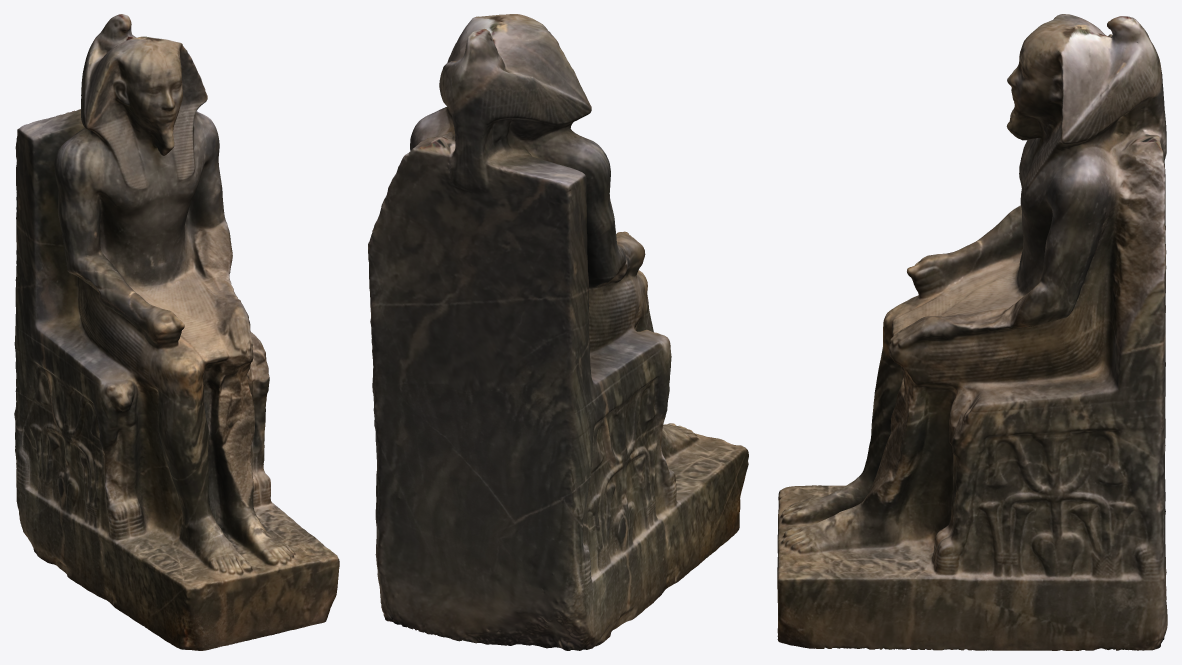
File: statue_of_khafre_egyptian_museum_cairo.glb
3 renders of one model, left to right at view 1: azimuth 30°, elevation 25°; view 2: azimuth 150°, elevation 25°; view 3: azimuth 270°, elevation 25°, orthographic. The views are drawn at different scales.
Parts seen in each view (by area): view 1: Object_6, Object_2, Object_3, Object_5, Object_7, Object_4, Object_10, Object_9, Object_8, Object_11; view 2: Object_8, Object_9, Object_7, Object_10, Object_6, Object_2, Object_3, Object_5, Object_4, Object_11; view 3: Object_4, Object_5, Object_6, Object_2, Object_3, Object_8, Object_9, Object_10, Object_7.
Part boxes in pixels (x1,y1,x2,y2): Object_6: (28,339,295,650); Object_2: (54,20,252,363); Object_3: (54,54,241,398); Object_5: (101,344,308,633); Object_7: (14,321,254,604); Object_4: (57,150,339,626); Object_10: (16,14,210,457); Object_9: (14,15,137,562); Object_8: (15,137,82,553); Object_11: (52,305,151,443); Object_8: (368,173,615,649); Object_9: (368,31,639,645); Object_7: (380,270,682,650); Object_10: (400,22,670,466); Object_6: (375,309,748,645); Object_2: (410,14,645,276); Object_3: (386,39,651,367); Object_5: (372,294,748,577); Object_4: (372,187,627,390); Object_11: (590,283,671,449); Object_4: (777,169,1165,650); Object_5: (778,339,1165,556); Object_6: (777,353,1166,650); Object_2: (888,14,1146,383); Object_3: (883,136,1165,380); Object_8: (1073,256,1167,650); Object_9: (1073,19,1167,648); Object_10: (925,16,1166,312); Object_7: (872,296,1165,567).
Bounding box in the file's own units: 3.09 × 8.51 × 5.07.
1 material, 1 textured.
